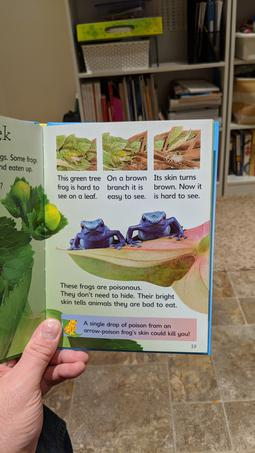text block: (52, 276, 181, 310), (79, 317, 196, 341), (144, 168, 209, 203), (51, 169, 103, 207), (97, 172, 149, 203), (1, 144, 39, 179), (1, 121, 15, 144)
